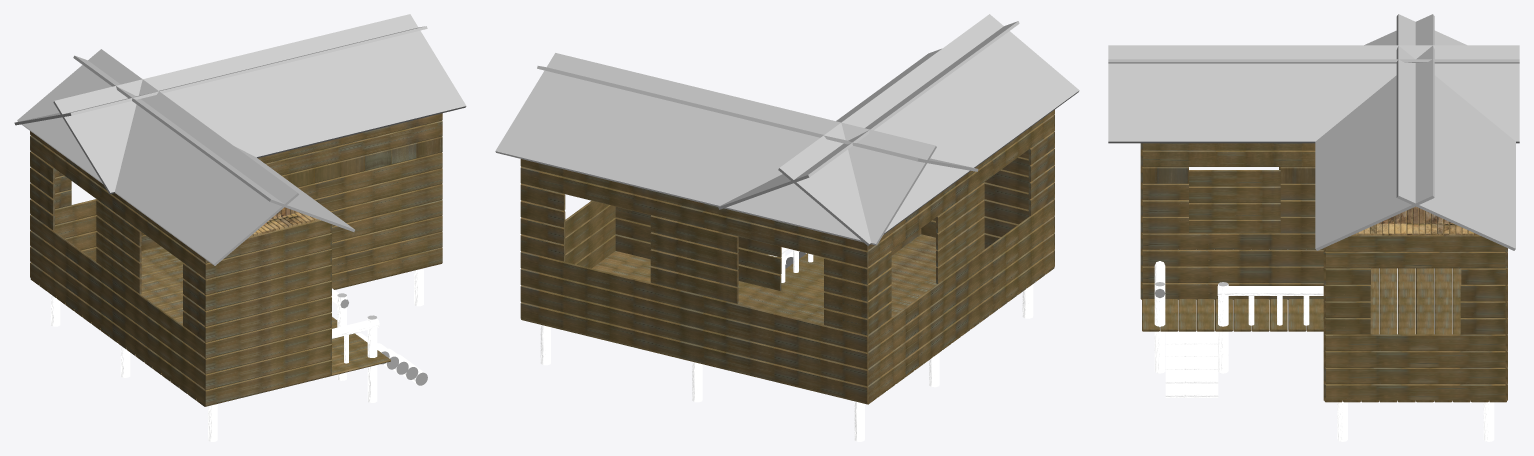
Rendered from beachHut1.fbx.
3 renders of one model, left to right at view 1: azimuth 30°, elevation 25°; view 2: azimuth 150°, elevation 25°; view 3: azimuth 270°, elevation 25°, orthographic. The views are drawn at different scales.
Parts seen in each view (by area): view 1: house; view 2: house; view 3: house.
Part boxes in pixels (<box>): house: <box>14,14,466,441</box>; house: <box>495,14,1079,441</box>; house: <box>1108,14,1519,441</box>.
Bounding box in the file's own units: 29.82 × 20.03 × 28.53.
